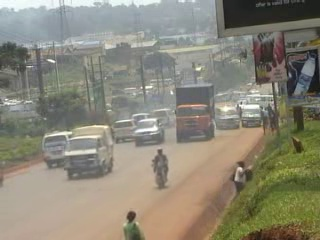Car: (130, 115, 166, 146), (109, 117, 137, 145), (126, 111, 151, 126)
Motorcycle: (149, 145, 170, 190)
